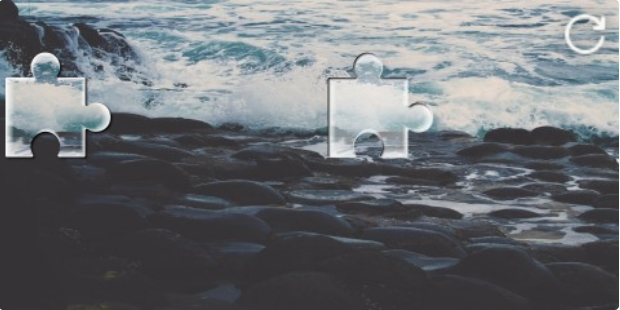target: (327, 52, 433, 158)
